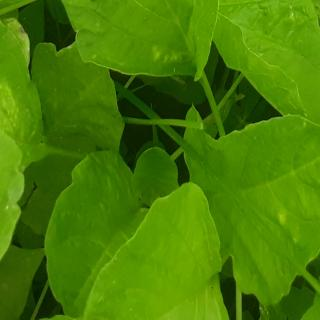karat_putih: (0, 32, 40, 156), (260, 0, 320, 43)
virus_keriting: (53, 0, 217, 88)
